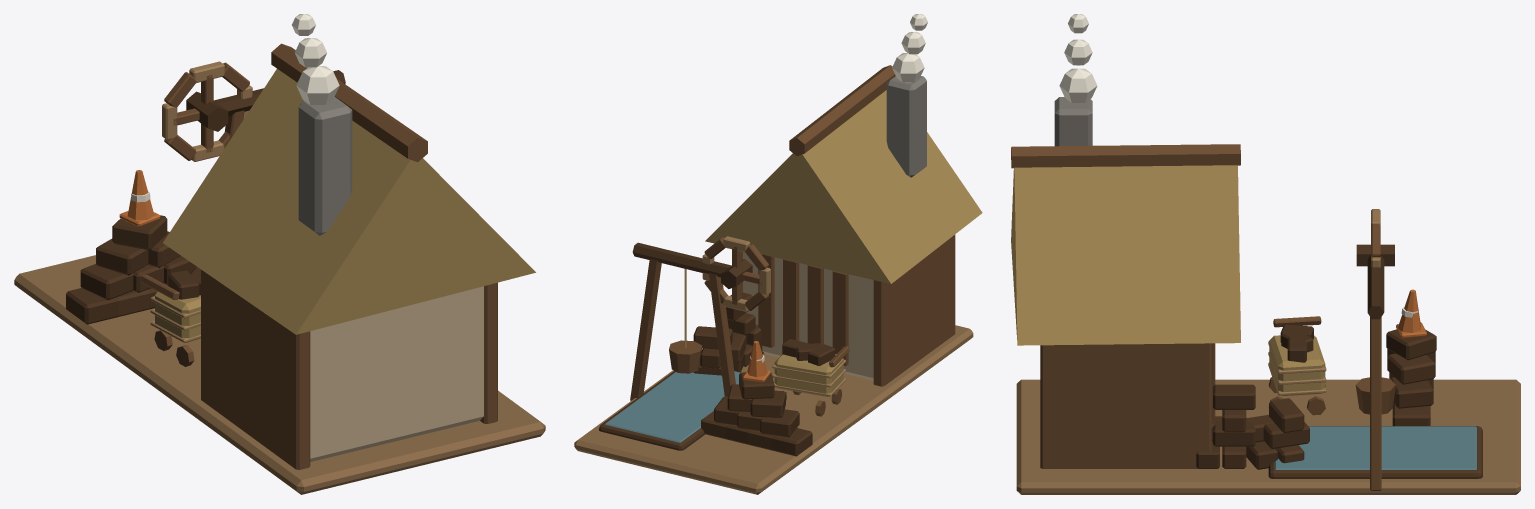
The model's file is peat_cut_l3.fbx.
3 views of the same model, side by side, from view 1: azimuth 30°, elevation 25°; view 2: azimuth 150°, elevation 25°; view 3: azimuth 270°, elevation 25° (orthographic). The views are drawn at different scales.
Parts seen in each view (by area): view 1: Building; view 2: Building; view 3: Building.
Boxes of the visible parts, x1,y1,x2,y2 form: Building: (14,14,545,494); Building: (574,14,982,494); Building: (1011,14,1520,494).
Bounding box in the file's own units: 1.13 × 2.14 × 1.82.
